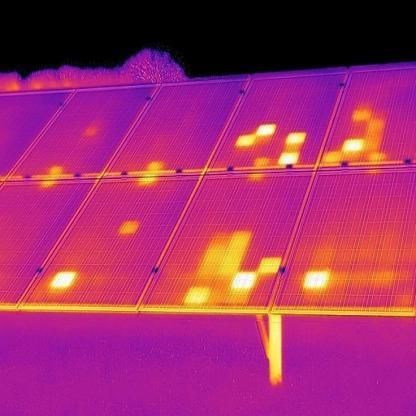anomaly: (188, 234, 285, 310), (318, 122, 382, 166), (234, 124, 275, 148), (281, 133, 304, 166), (301, 270, 334, 293), (51, 268, 78, 294), (122, 218, 143, 238)
